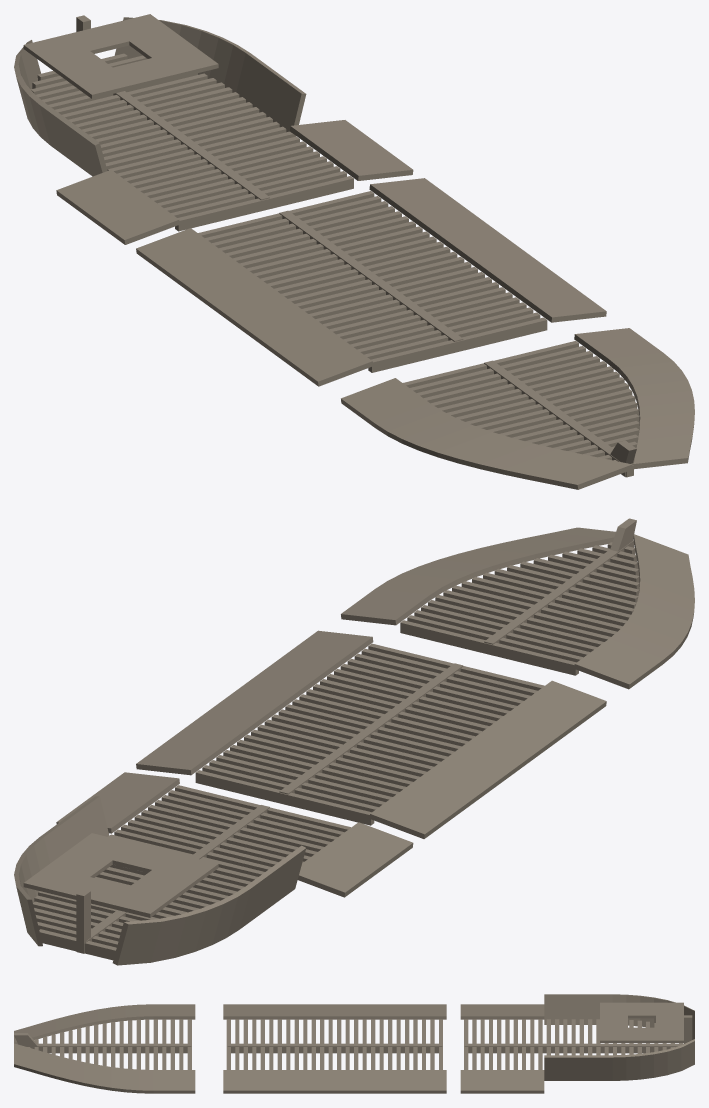
The model's file is hull_visual.glb.
3 views of the same model, one above another, from view 1: azimuth 30°, elevation 25°; view 2: azimuth 150°, elevation 25°; view 3: azimuth 270°, elevation 25° (orthographic). The views are drawn at different scales.
Visible parts, largest first — view 1: hull; view 2: hull; view 3: hull.
Boxes of the visible parts, bbox=[...] form: hull: bbox=[14, 14, 694, 489]; hull: bbox=[14, 518, 694, 965]; hull: bbox=[14, 994, 694, 1093].
Size of the model in its own units: 14.66 by 2.86 by 48.8.
